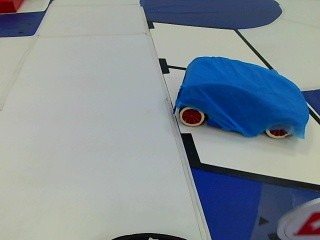car: (170, 54, 311, 142)
